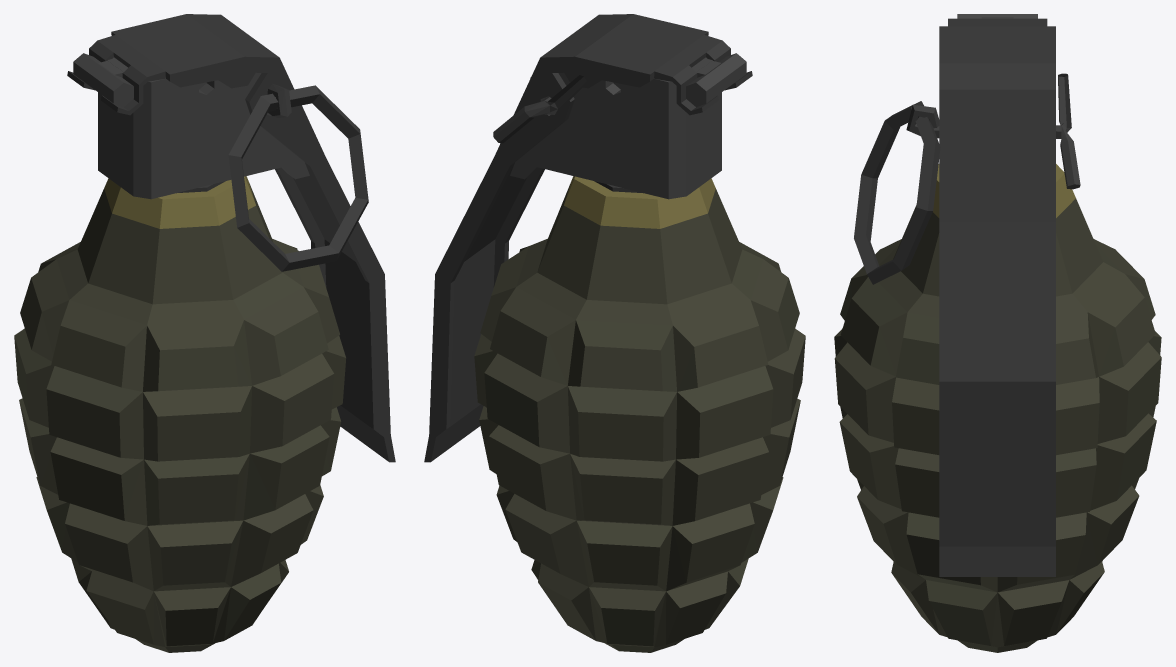
Rendered from grenade.glb.
The picture shows the model from 3 angles, left to right: view 1: azimuth 30°, elevation 25°; view 2: azimuth 150°, elevation 25°; view 3: azimuth 270°, elevation 25°; orthographic projection.
Visible parts, largest first — view 1: Grenade_Body, Grenade_Spoon, Grenade_Pin; view 2: Grenade_Body, Grenade_Spoon, Grenade_Pin; view 3: Grenade_Body, Grenade_Spoon, Grenade_Pin.
Part boxes in pixels (<box>): Grenade_Body: <box>14,53,346,652</box>; Grenade_Spoon: <box>67,14,395,462</box>; Grenade_Pin: <box>228,84,368,271</box>; Grenade_Body: <box>474,53,805,652</box>; Grenade_Spoon: <box>424,14,752,462</box>; Grenade_Pin: <box>493,75,586,143</box>; Grenade_Body: <box>834,14,1161,652</box>; Grenade_Spoon: <box>939,18,1055,576</box>; Grenade_Pin: <box>854,73,1080,284</box>.
Bounding box in the file's own units: 2.61 × 4.47 × 2.25.
